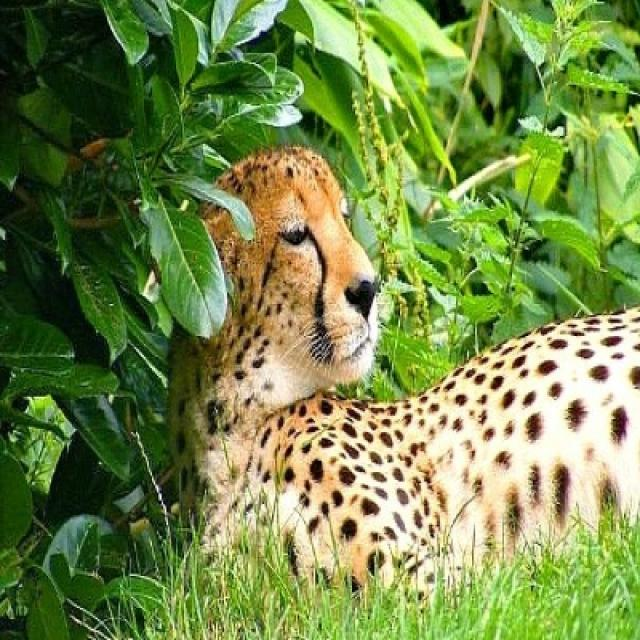Cheetah: (171, 147, 638, 595)
